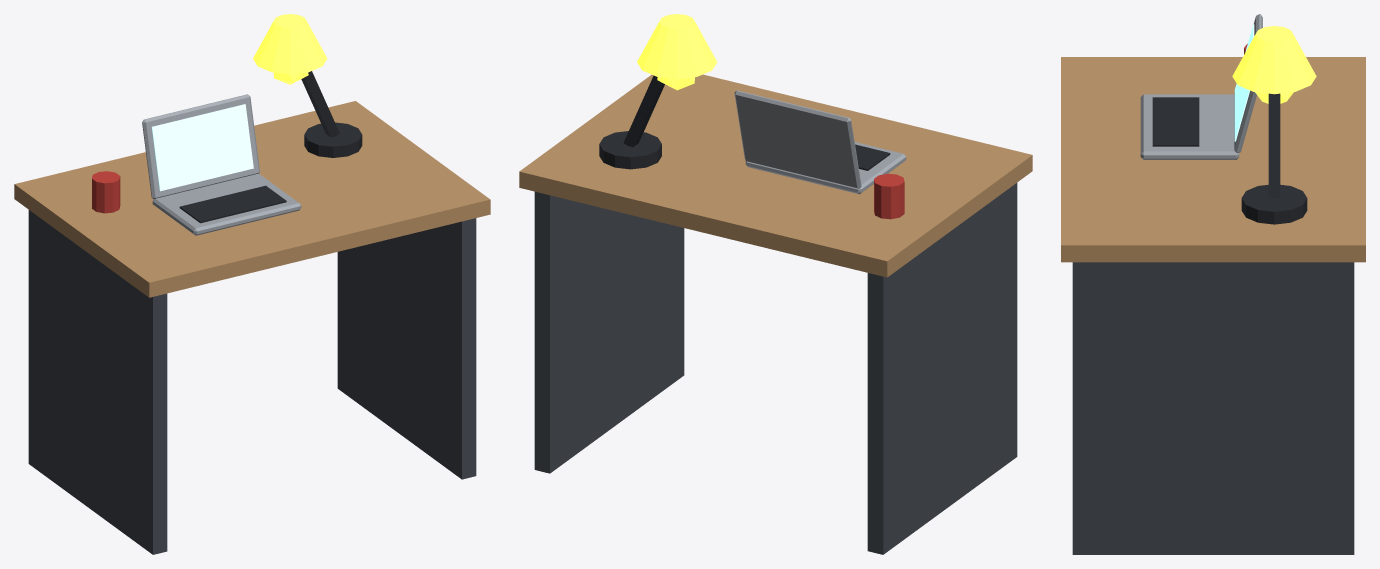
File: lamp_desk.glb
3 views of the same model, side by side, from view 1: azimuth 30°, elevation 25°; view 2: azimuth 150°, elevation 25°; view 3: azimuth 270°, elevation 25° (orthographic). The views are drawn at different scales.
Visible parts, largest first — view 1: lamp_desk_mesh; view 2: lamp_desk_mesh; view 3: lamp_desk_mesh.
Boxes of the visible parts, x1,y1,x2,y2 form: lamp_desk_mesh: (14,14,490,554); lamp_desk_mesh: (519,14,1032,554); lamp_desk_mesh: (1061,14,1365,554).
Size of the model in its own units: 0.95 by 1.1 by 0.65.
